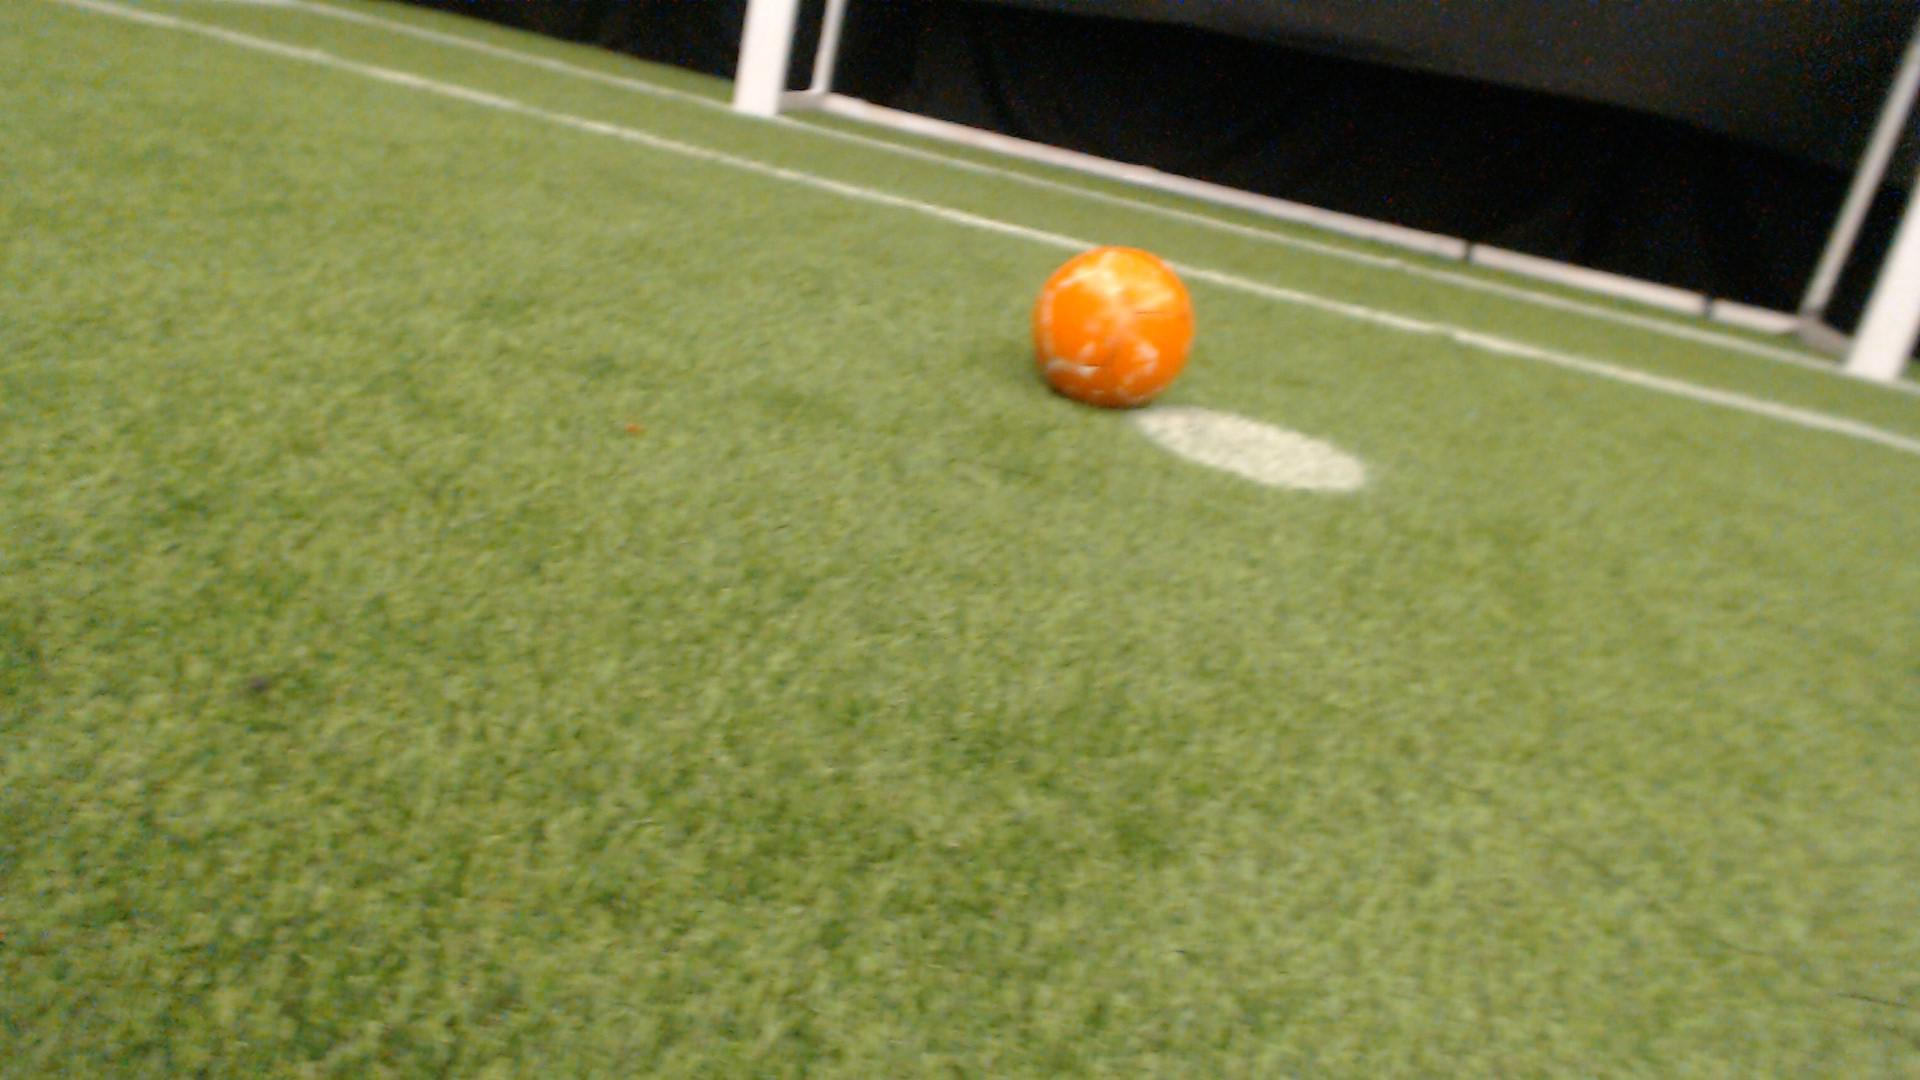bola: (1018, 229, 1212, 422)
